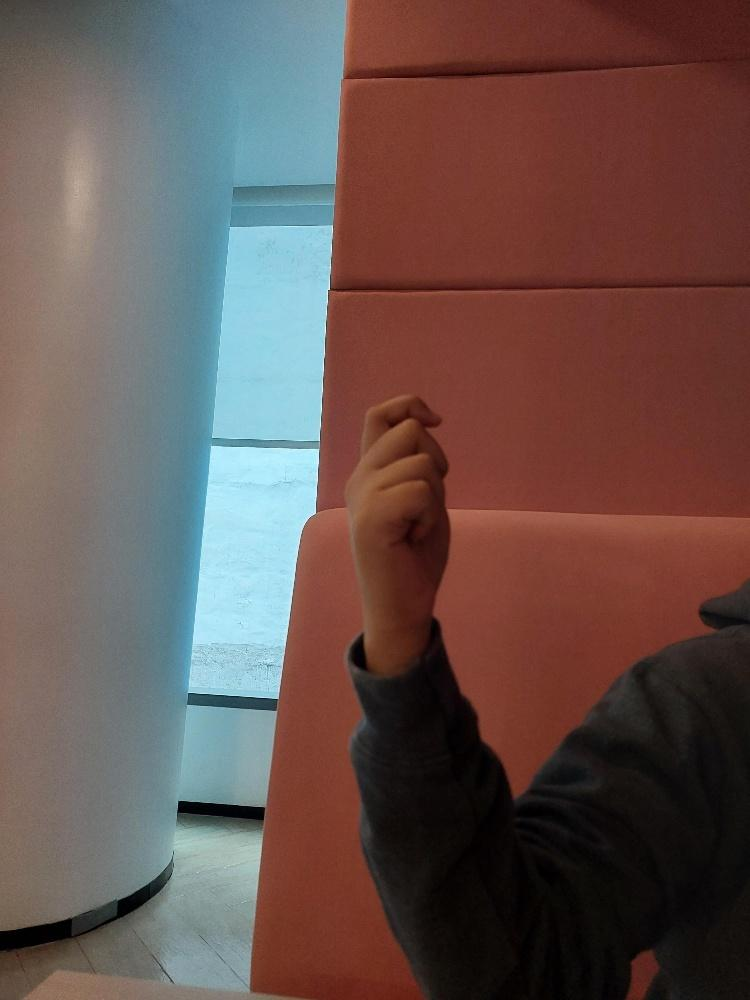t: (340, 385, 459, 650)
